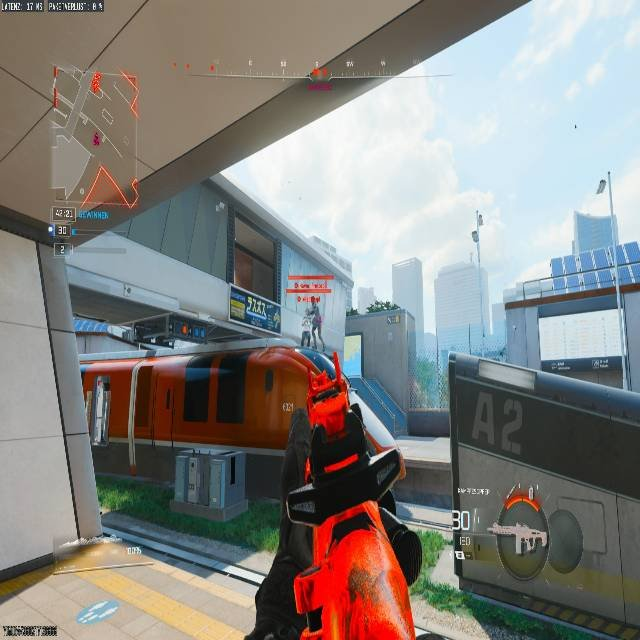player: (301, 302, 324, 348)
